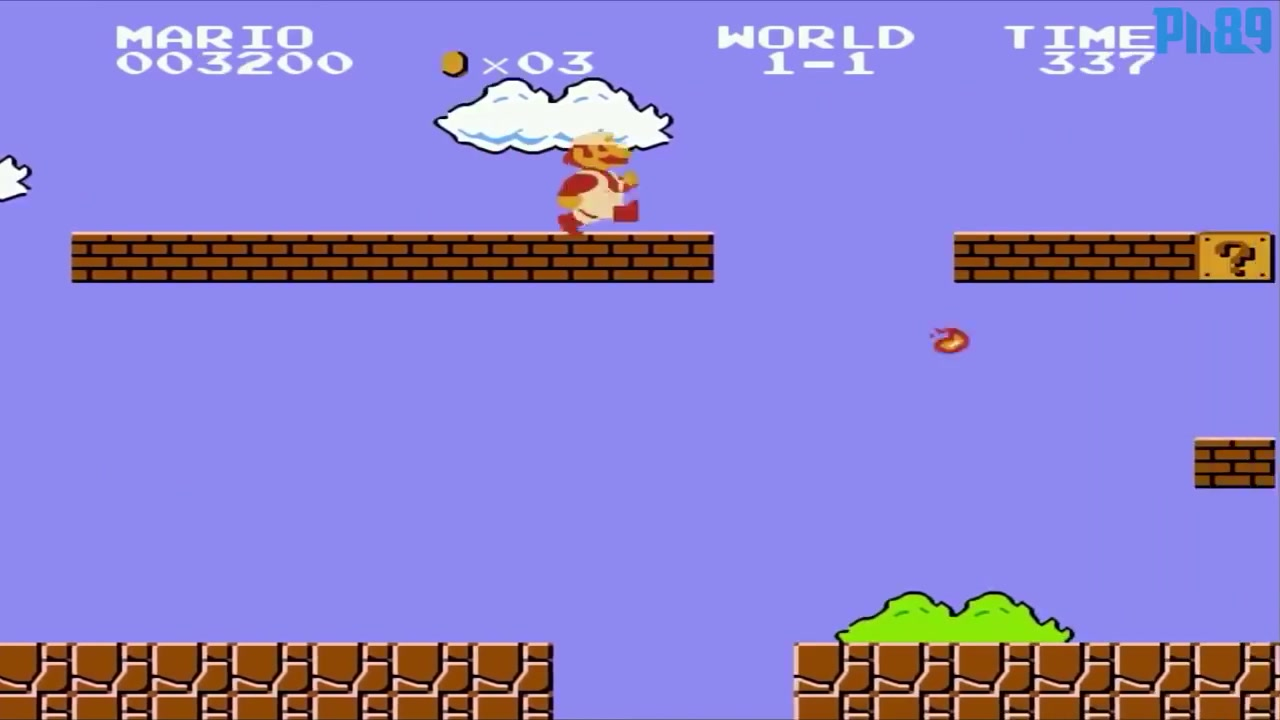mario: (552, 123, 642, 243)
